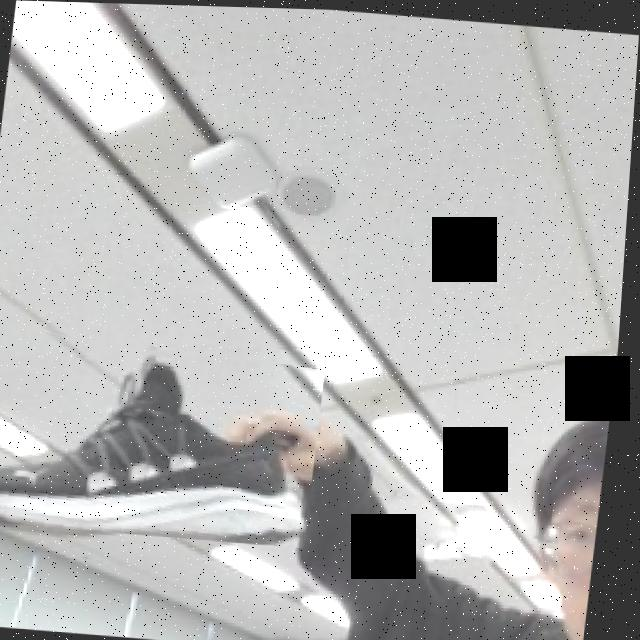shoe: (0, 323, 333, 546)
